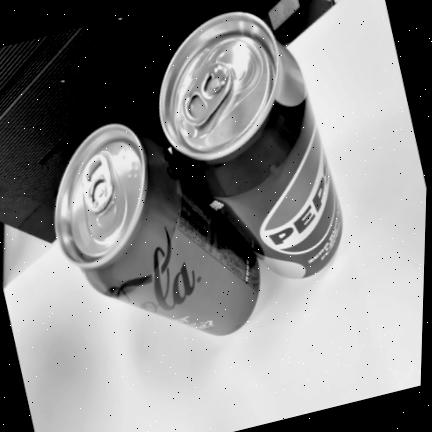can_coke_zero: (55, 121, 259, 338)
can_pepsi_zero: (163, 14, 342, 279)
